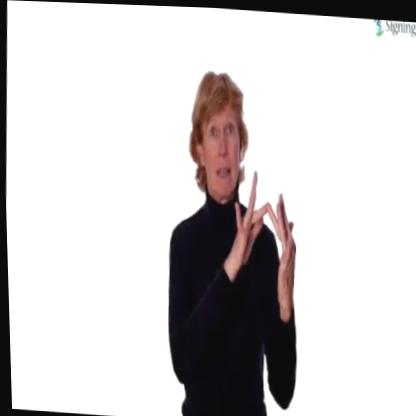Internet: (156, 60, 308, 416)
